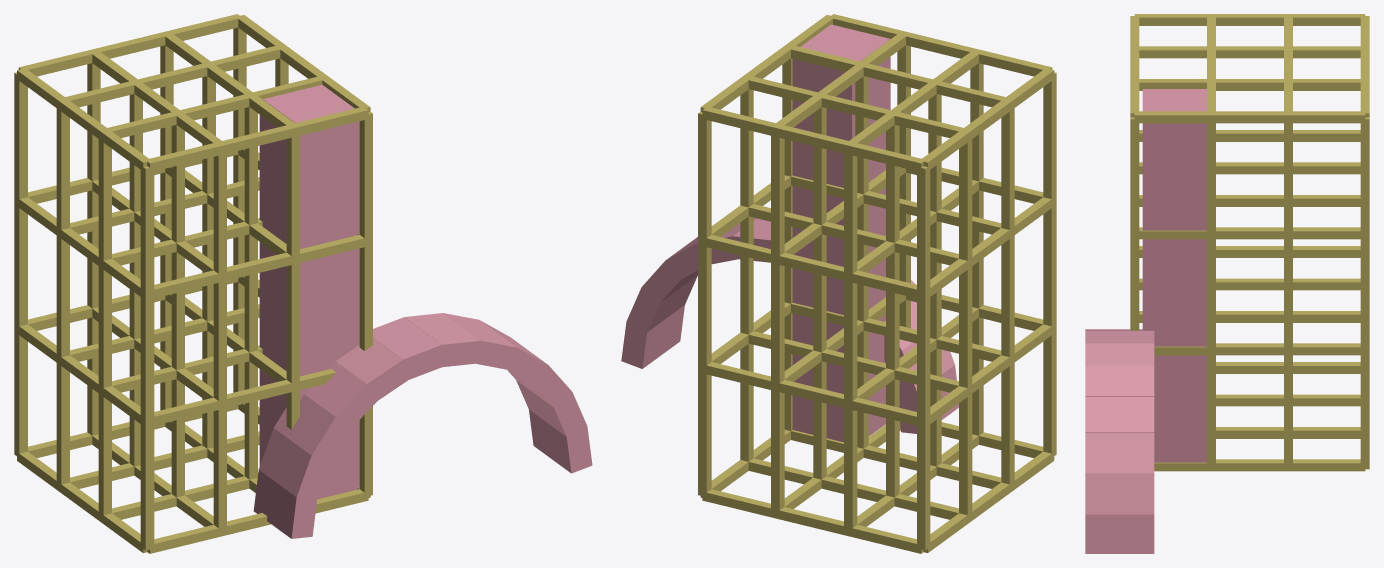
The model's file is folie_tag_090.glb.
3 views of the same model, side by side, from view 1: azimuth 30°, elevation 25°; view 2: azimuth 150°, elevation 25°; view 3: azimuth 270°, elevation 25° (orthographic). The views are drawn at different scales.
Visible parts, largest first — view 1: folie_tag_090_00_cage, folie_tag_090_01_arc, folie_tag_090_core; view 2: folie_tag_090_00_cage, folie_tag_090_core, folie_tag_090_01_arc; view 3: folie_tag_090_00_cage, folie_tag_090_core, folie_tag_090_01_arc.
Boxes of the visible parts, bbox=[...] form: folie_tag_090_00_cage: bbox=[14, 14, 372, 553]; folie_tag_090_01_arc: bbox=[253, 313, 592, 538]; folie_tag_090_core: bbox=[259, 84, 359, 499]; folie_tag_090_00_cage: bbox=[698, 14, 1056, 553]; folie_tag_090_core: bbox=[792, 24, 890, 442]; folie_tag_090_01_arc: bbox=[621, 217, 958, 433]; folie_tag_090_00_cage: bbox=[1130, 14, 1369, 471]; folie_tag_090_core: bbox=[1142, 89, 1206, 462]; folie_tag_090_01_arc: bbox=[1085, 329, 1154, 553].
Bounding box in the file's own units: 6.95 × 6.14 × 4.44.
